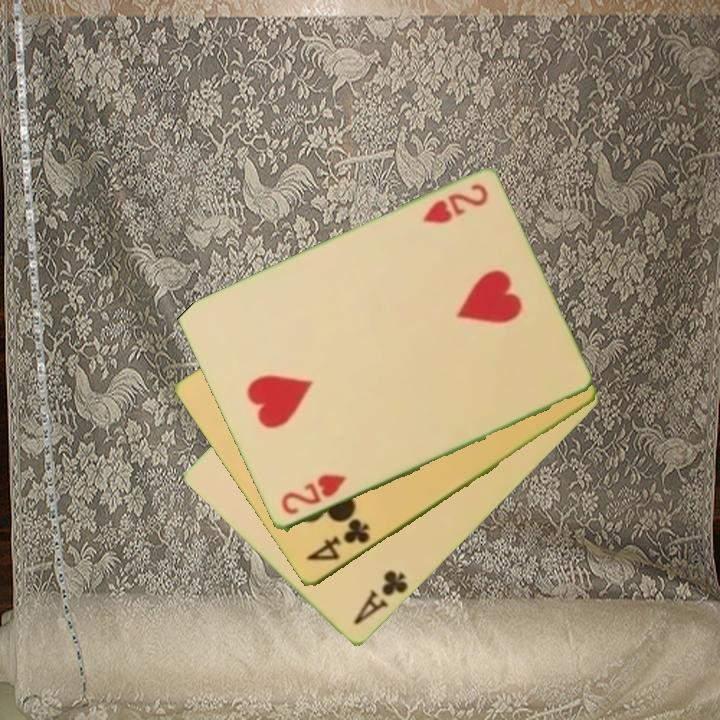2h: (277, 471, 350, 519), (418, 180, 491, 228)
4c: (303, 515, 373, 565)
Ac: (350, 567, 411, 629)
